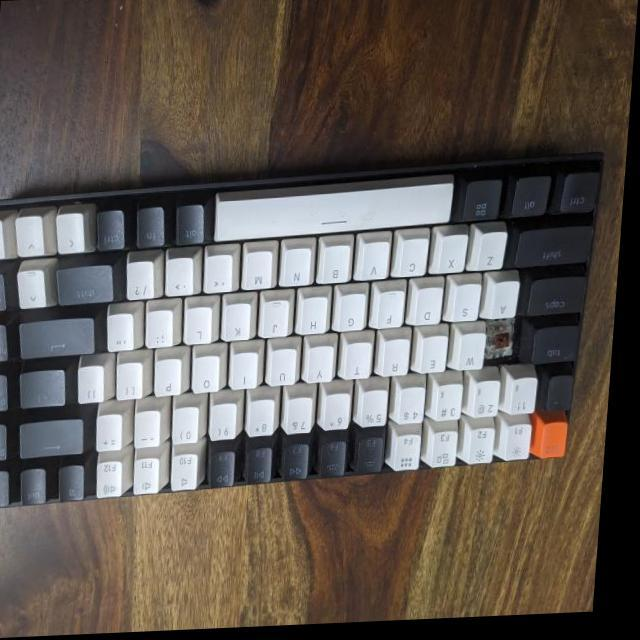key-switch: (490, 324, 522, 368)
